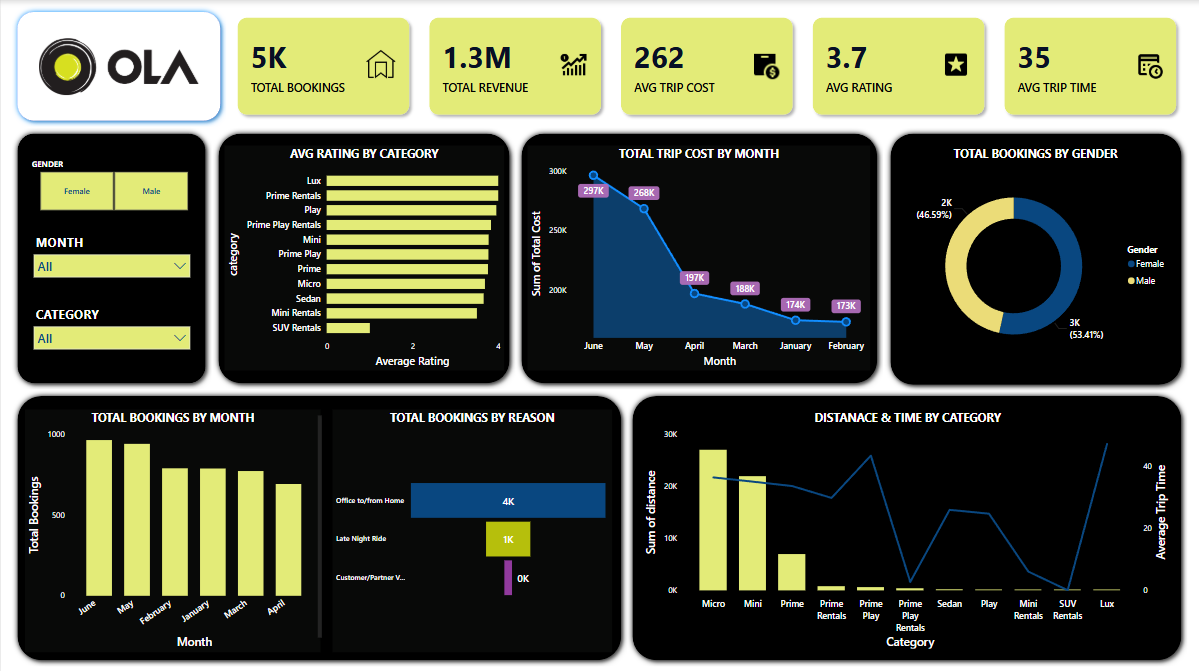

The page's visual inventory and layout, read from the dashboard file:
{"tool":"powerbi","page":{"name":"Duplicate of Page 1","canvas":[1800,1000],"ordinal":1},"visuals":[{"type":"shape","box":[15.5,8.8,322.5,181.2],"z":0},{"type":"image","box":[50.8,42,249.6,114.9],"z":1000},{"type":"cardVisual","fields":{"Data":["Data.Total Bookings","Data.Total Revenue","Data.Average Trip Cost","Data.Average Rating","Data.Average Trip Time"]},"box":[362.3,8.8,1420.5,181.2],"z":2000},{"type":"shape","box":[941.1,594.3,841.7,406.5],"z":3000},{"type":"lineClusteredColumnComboChart","title":"DISTANACE & TIME BY CATEGORY","fields":{"Category":["Data.category"],"Y":["Sum(Data.distance_travelled)"],"Y2":["Data.Average Trip Time"]},"box":[963.2,614.2,799.7,364.5],"z":4000},{"type":"shape","box":[773.2,192.2,552.3,393.2],"z":5000},{"type":"shape","box":[1327.7,192.2,455.1,395.4],"z":7000},{"type":"donutChart","title":"TOTAL BOOKINGS BY GENDER","fields":{"Category":["Data.gender"],"Y":["Data.Total Bookings"]},"box":[1345.4,218.7,417.5,338],"z":8000},{"type":"shape","box":[15.5,594.3,925.6,406.5],"z":9000},{"type":"clusteredColumnChart","title":"TOTAL BOOKINGS BY MONTH","fields":{"Category":["Data.month"],"Y":["Data.Total Bookings"]},"box":[35.3,614.2,444,364.5],"z":10000},{"type":"funnel","title":"TOTAL BOOKINGS BY REASON","fields":{"Category":["Data.reason"],"Y":["Data.Total Bookings"]},"box":[497.1,614.2,419.7,364.5],"z":11000},{"type":"shape","box":[318.1,627.4,320.3,351.3],"z":12000},{"type":"shape","box":[318.1,192.2,455.1,393.2],"z":13000},{"type":"clusteredBarChart","title":"AVG RATING BY CATEGORY","fields":{"Y":["Data.Average Rating"],"Category":["Data.category"]},"box":[335.8,218.7,419.7,338],"z":14000},{"type":"shape","box":[15.5,192.2,300.4,393.2],"z":15000},{"type":"slicer","fields":{"Values":["Data.gender"]},"box":[35.3,234.2,260.7,88.4],"z":16000},{"type":"slicer","fields":{"Values":["Data.month"]},"box":[35.3,342.4,260.7,90.6],"z":17000},{"type":"slicer","fields":{"Values":["Data.category"]},"box":[35.3,450.7,260.7,97.2],"z":18000},{"type":"areaChart","title":"TOTAL TRIP COST BY MONTH","fields":{"Category":["Data.month"],"Y":["Sum(Data.total_trip_cost)"]},"box":[790.9,218.7,514.7,338],"z":18001}]}

Visuals, with their boxes in screenshot pixels (x1, y1, x2, y2), scaled from the page's 1800x1000 canvas onto the 1199x671 screenshot:
shape: l=10, t=6, r=225, b=127
image: l=34, t=28, r=200, b=105
cardVisual - Data.Total Bookings x Data.Total Revenue: l=241, t=6, r=1188, b=127
shape: l=627, t=399, r=1188, b=670
"DISTANACE & TIME BY CATEGORY" lineClusteredColumnComboChart: l=642, t=412, r=1174, b=657
shape: l=515, t=129, r=883, b=393
shape: l=884, t=129, r=1188, b=394
"TOTAL BOOKINGS BY GENDER" donutChart: l=896, t=147, r=1174, b=374
shape: l=10, t=399, r=627, b=670
"TOTAL BOOKINGS BY MONTH" clusteredColumnChart: l=24, t=412, r=319, b=657
"TOTAL BOOKINGS BY REASON" funnel: l=331, t=412, r=611, b=657
shape: l=212, t=421, r=425, b=657
shape: l=212, t=129, r=515, b=393
"AVG RATING BY CATEGORY" clusteredBarChart: l=224, t=147, r=503, b=374
shape: l=10, t=129, r=210, b=393
slicer - Data.gender: l=24, t=157, r=197, b=216
slicer - Data.month: l=24, t=230, r=197, b=291
slicer - Data.category: l=24, t=302, r=197, b=368
"TOTAL TRIP COST BY MONTH" areaChart: l=527, t=147, r=870, b=374
